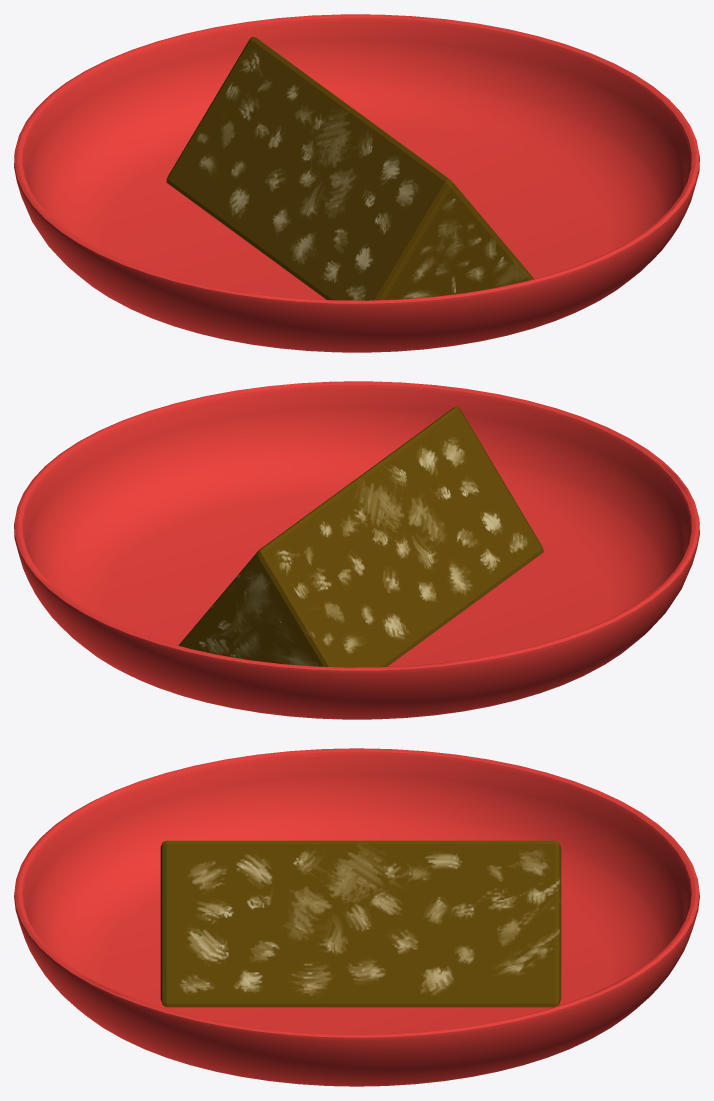
The model's file is mozaik pasta.fbx.
The picture shows the model from 3 angles, top to bottom: view 1: azimuth 30°, elevation 25°; view 2: azimuth 150°, elevation 25°; view 3: azimuth 270°, elevation 25°; orthographic projection.
Visible parts, largest first — view 1: Cylinder, Cube; view 2: Cylinder, Cube; view 3: Cylinder, Cube.
Part boxes in pixels (box(x1,y1,x2,y2)): Cylinder: box(14, 14, 699, 352); Cube: box(166, 37, 533, 300); Cylinder: box(14, 381, 699, 719); Cube: box(178, 406, 543, 667); Cylinder: box(14, 748, 699, 1086); Cube: box(160, 840, 561, 1007).
Size of the model in its own units: 199 by 41.33 by 199.
2 materials, 1 textured.
